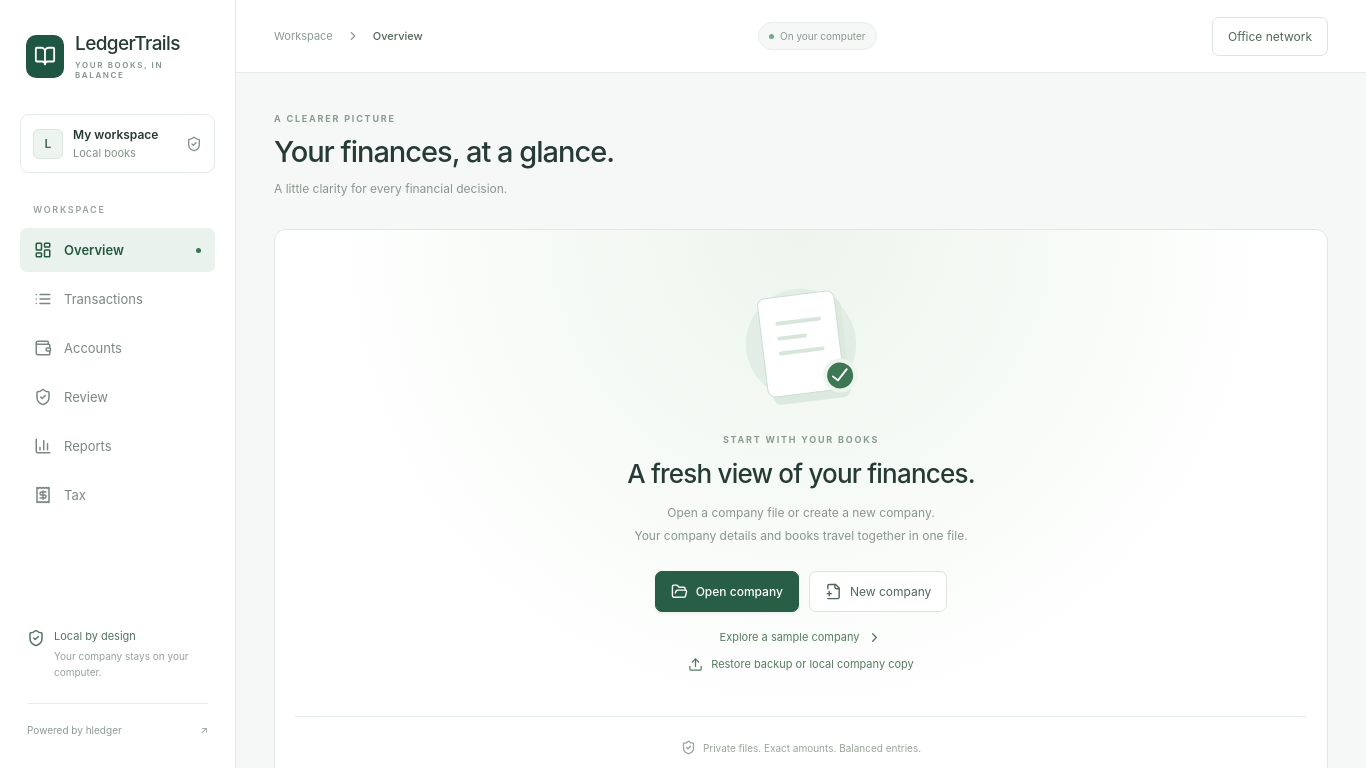
Test: new company collects business details and preserves the selected currency for entries
The width and height of the screenshot is (1366, 768).
Click the button "New company": (878, 592) [809, 571, 947, 612]
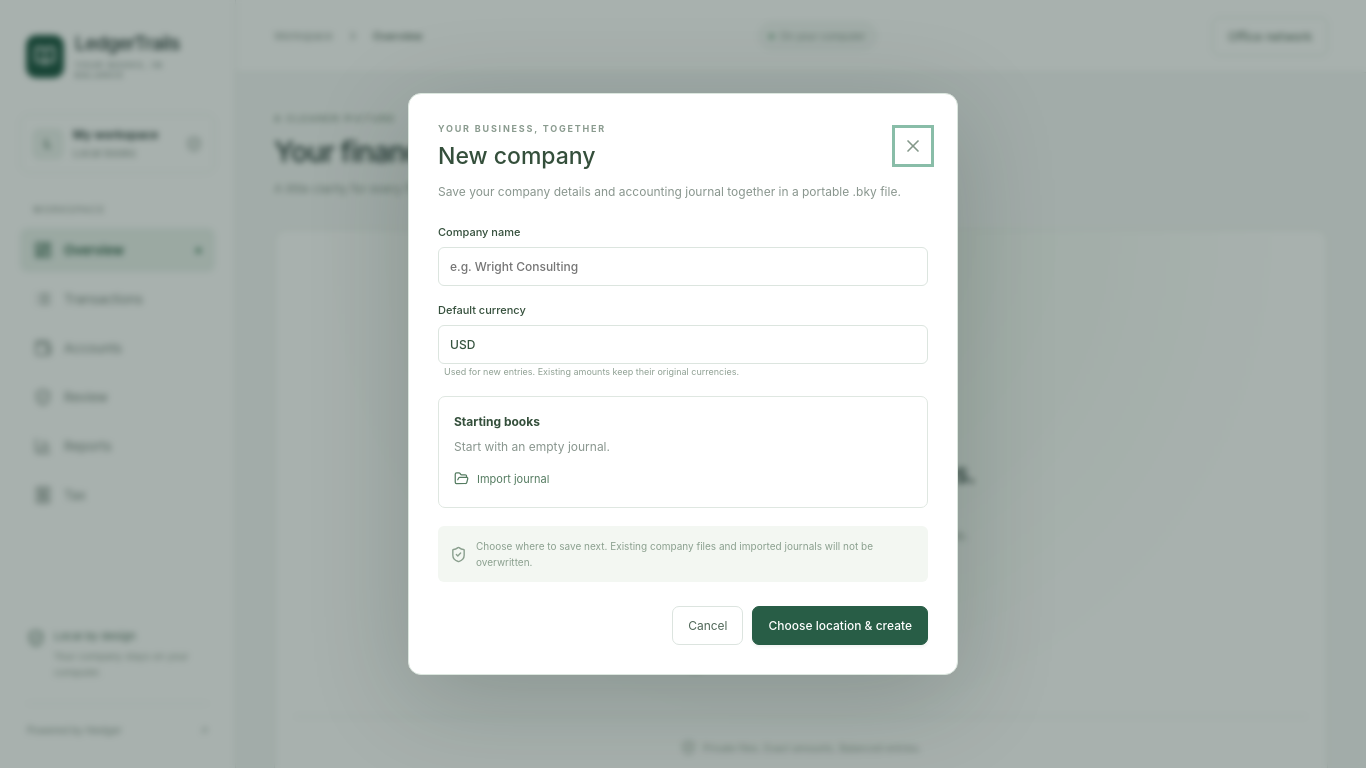
In the field labelled "Company name": (683, 266) [438, 247, 928, 286], type "My Business"
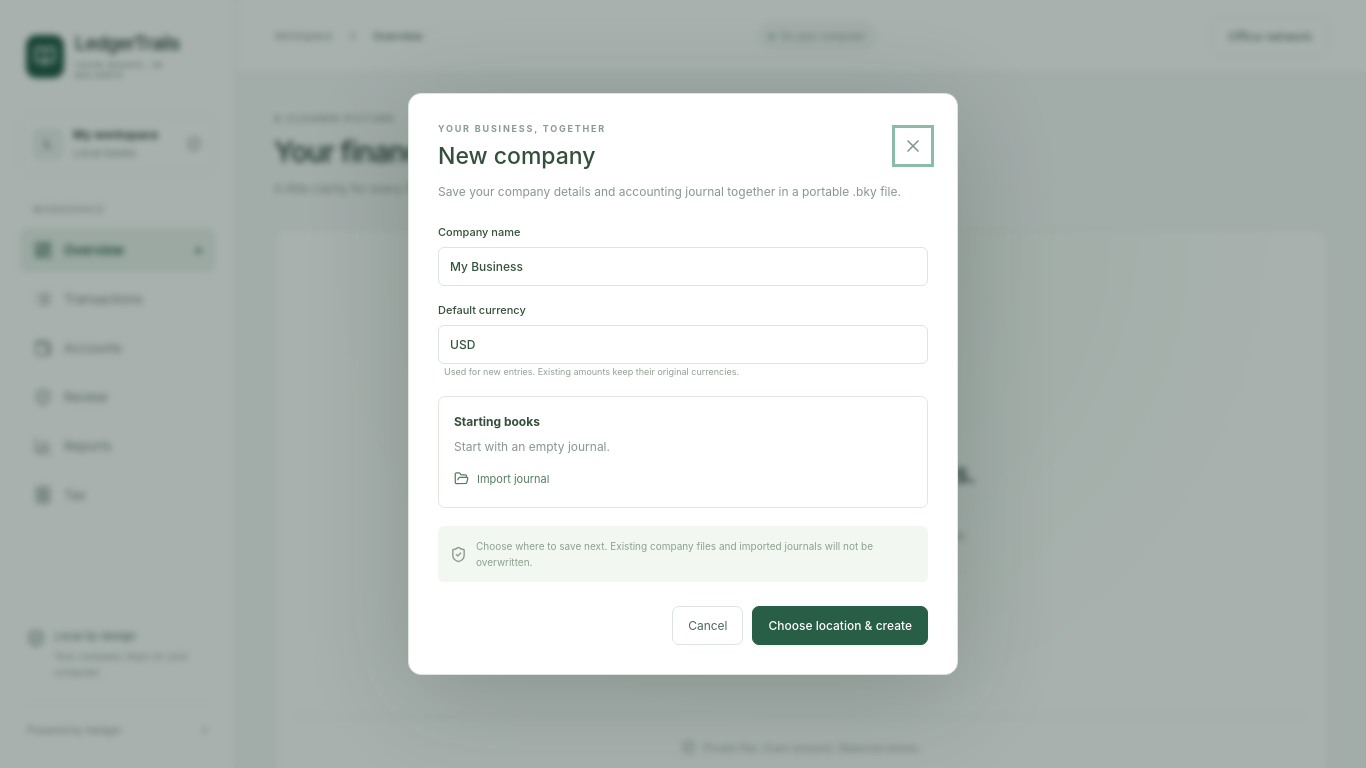
Replace the text in the field labelled "Default currency" with "EUR": (683, 344) [438, 325, 928, 364]
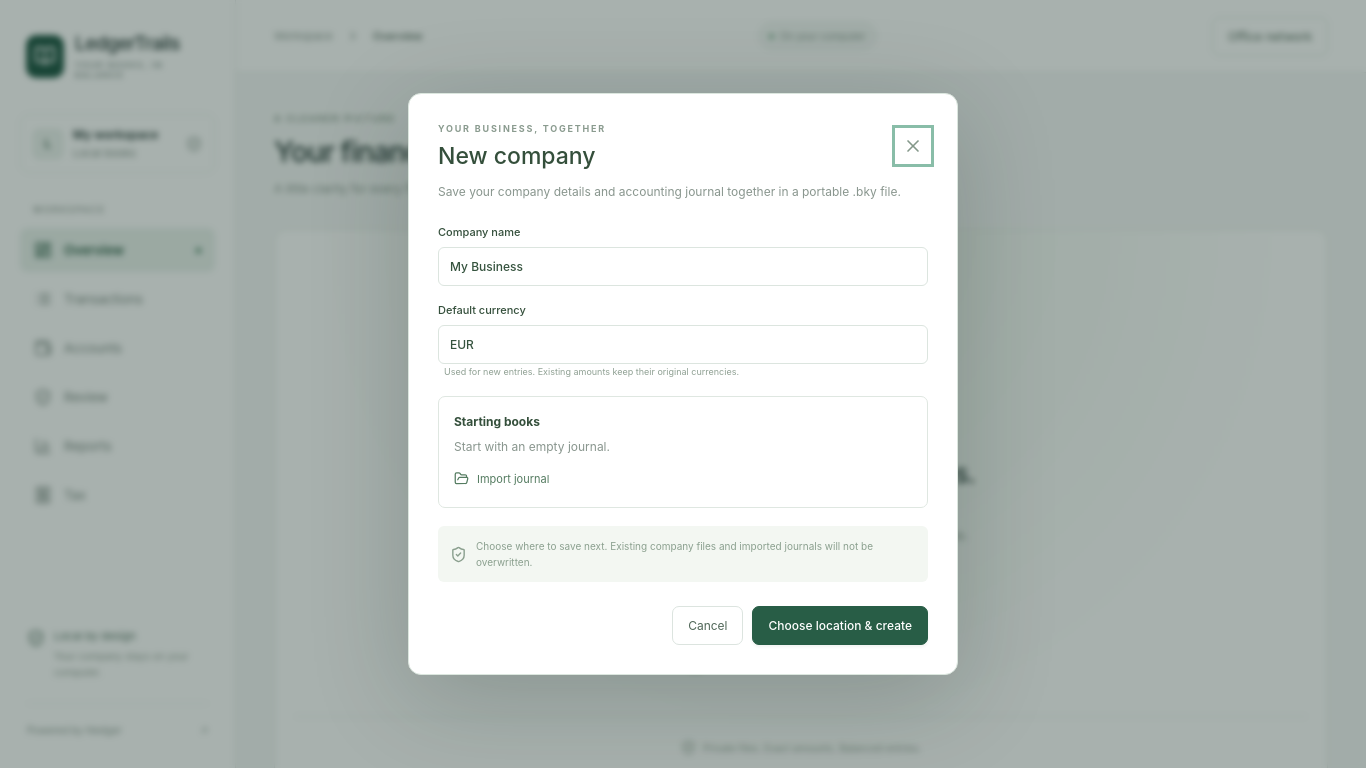
Click the button "Choose location & create": (840, 626) [752, 606, 928, 645]
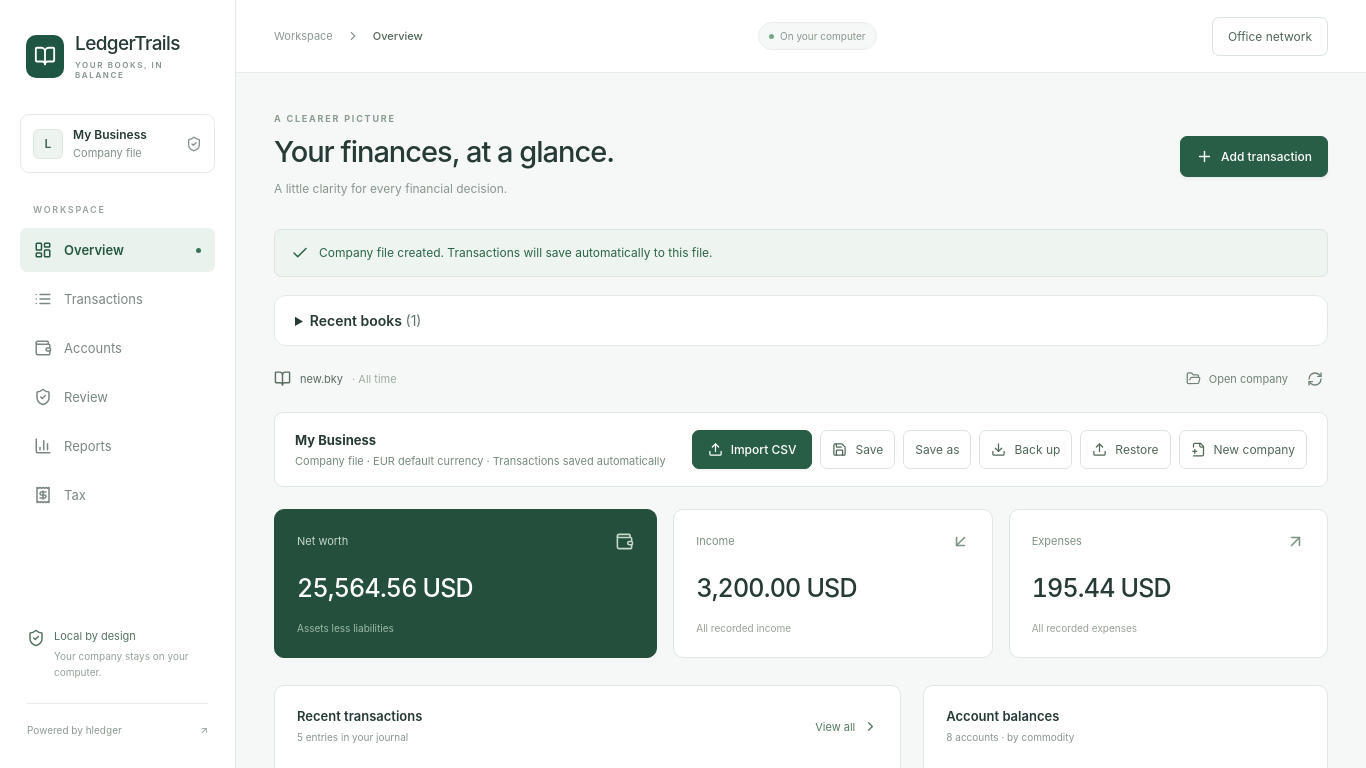
Check: the text "Company file created. Transactions will save automatically to this file." is shown, box [274, 229, 1328, 277]
Click the button "Add transaction": (1254, 156) [1180, 136, 1328, 177]
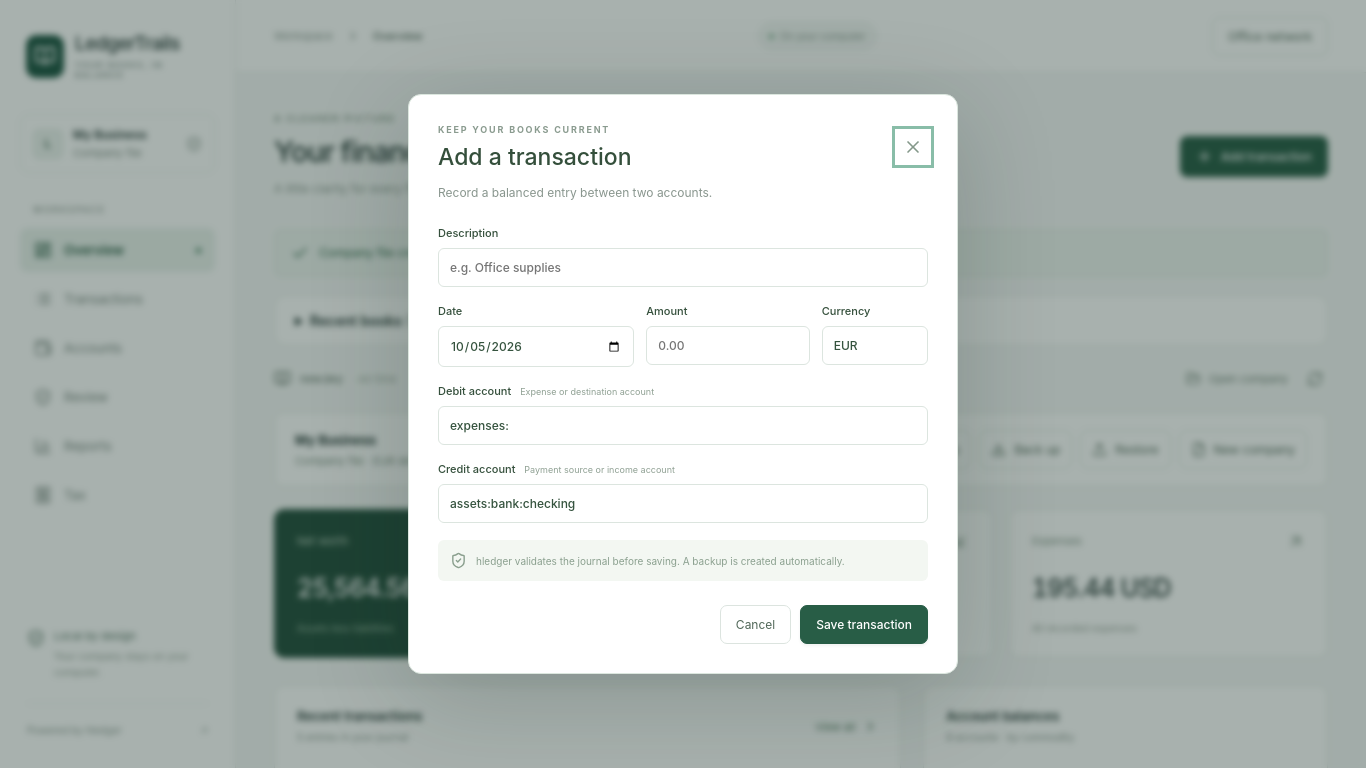
Check: the field labelled "Currency" holds "EUR", box [822, 326, 928, 365]
